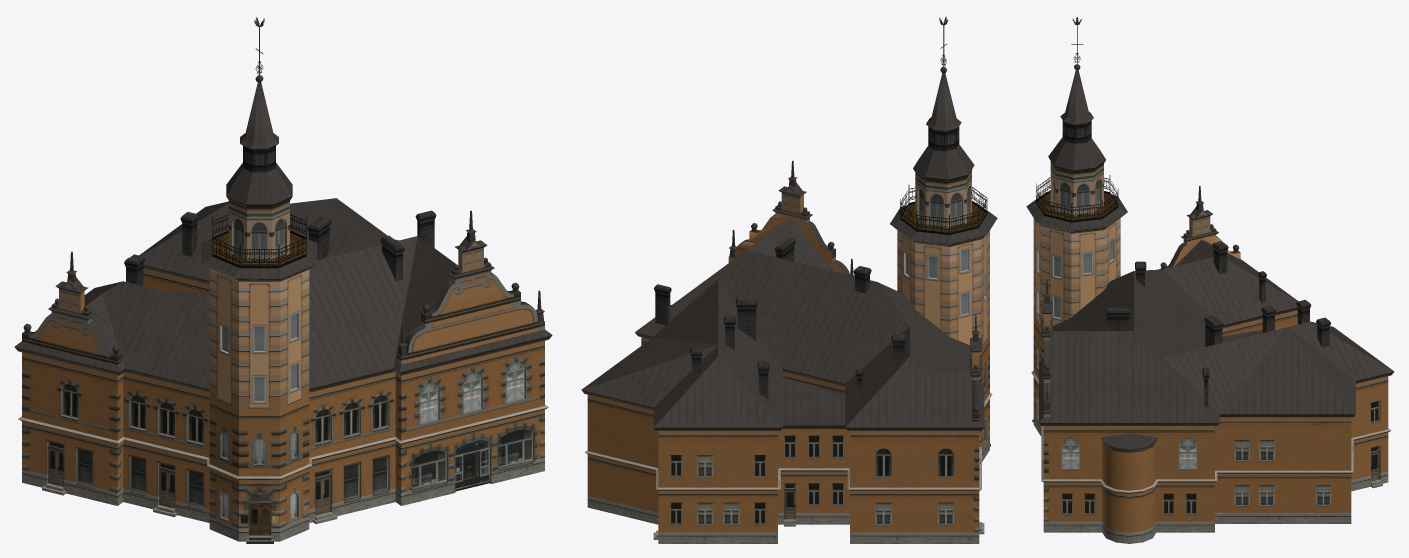
The model's file is chancery.glb.
3 views of the same model, side by side, from view 1: azimuth 30°, elevation 25°; view 2: azimuth 150°, elevation 25°; view 3: azimuth 270°, elevation 25° (orthographic). The views are drawn at different scales.
Parts seen in each view (by area): view 1: Main_skp_front_default_0; view 2: Main_skp_front_default_0; view 3: Main_skp_front_default_0.
Boxes of the visible parts, x1,y1,x2,y2 form: Main_skp_front_default_0: (14,17,552,543); Main_skp_front_default_0: (581,17,997,543); Main_skp_front_default_0: (1026,16,1394,543).
Bounding box in the file's own units: 3688 × 4017 × 3264.
Materials: 1 (1 with a texture image).
